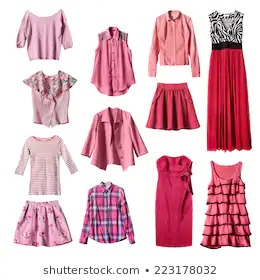C_dress: (206, 46, 253, 152)
C_skirt: (146, 81, 202, 134), (10, 199, 71, 247)
